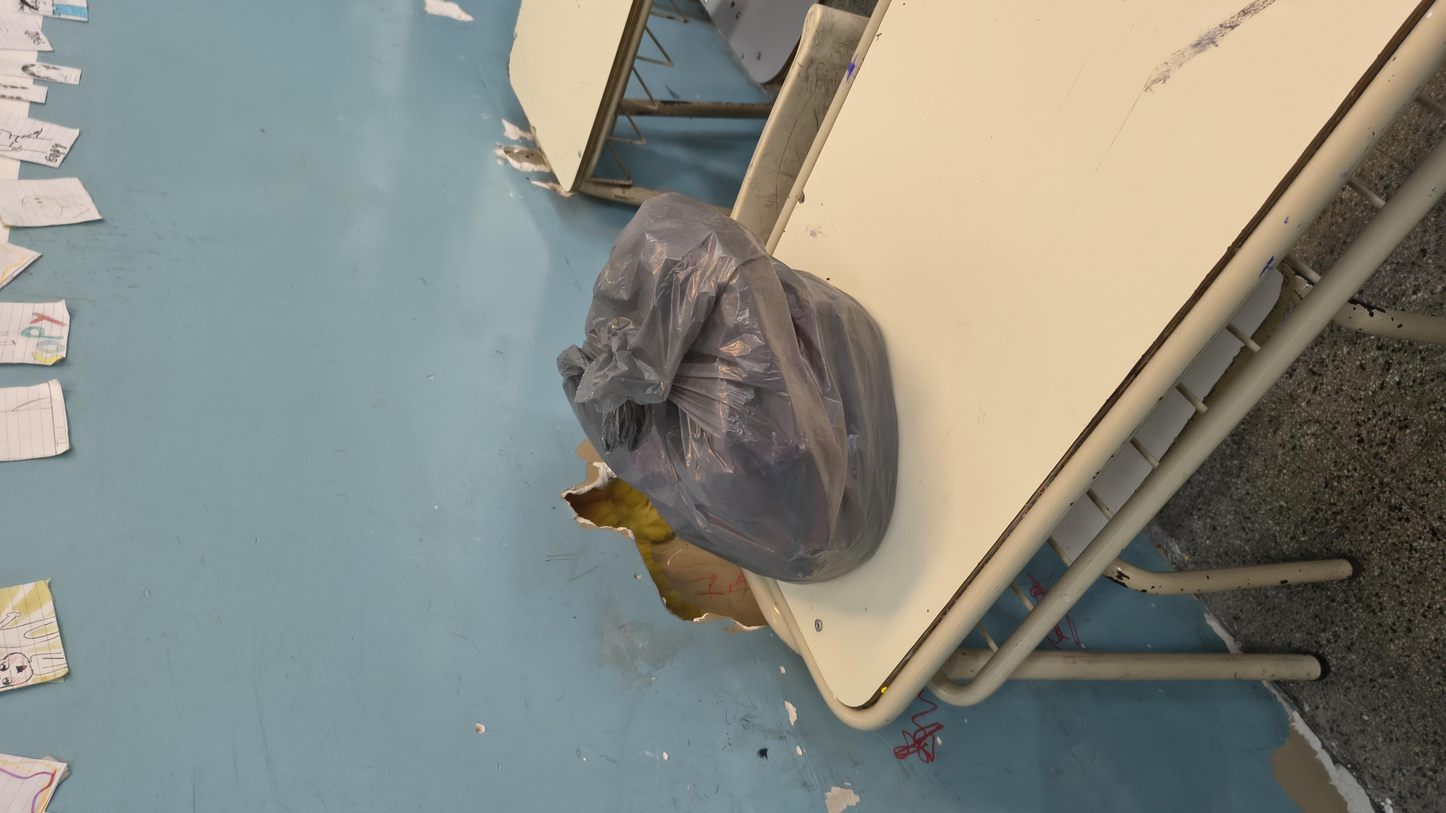Garbage: (370, 294, 1180, 538)
